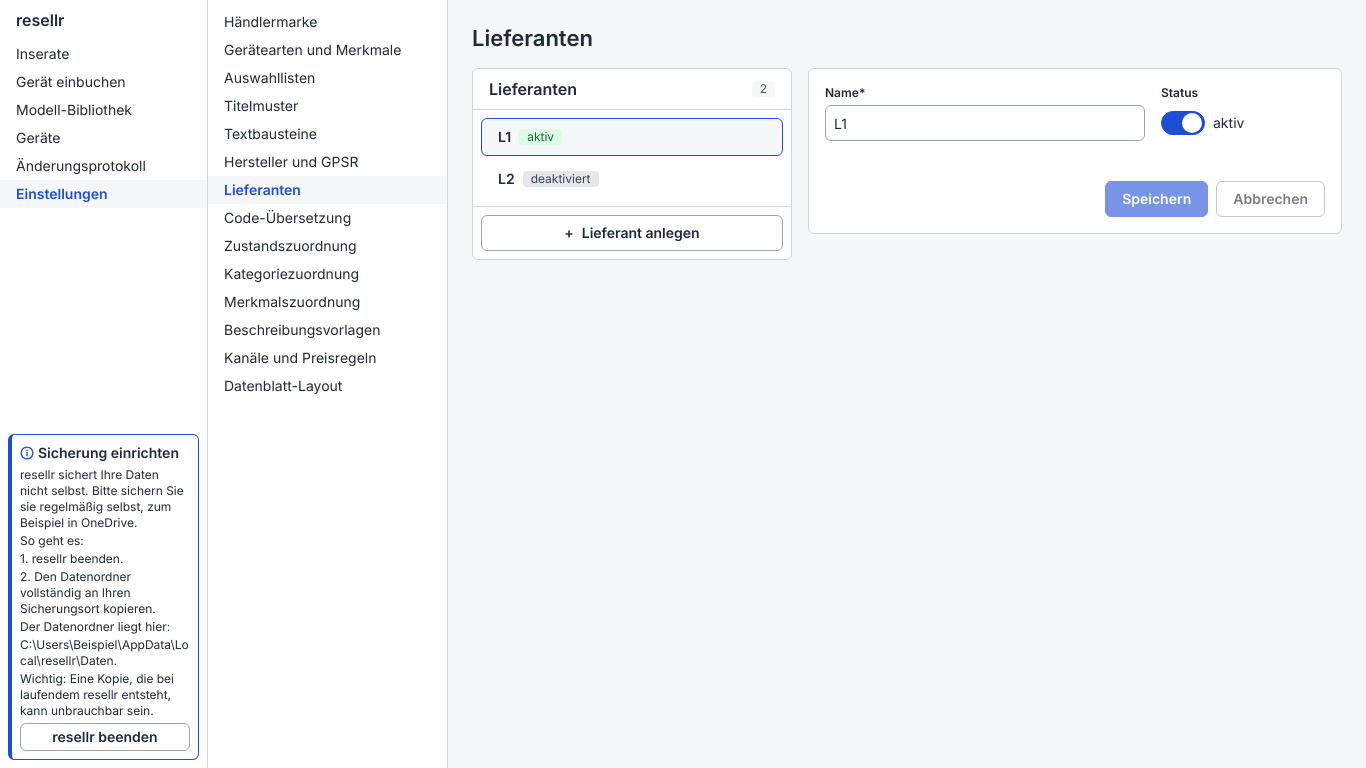
Test: UI-032 suppliers (CU-099) › UI-032.disabled DER-36-07 "Speichern" is disabled without a change and enabled after one
Expected: the button "L1 aktiv" is shown, [481,118,783,156]
Expected: the field labelled "Name*" holds "L1", [825,105,1145,141]
Submit the form, box [808,68,1342,234]
Replace the text in the field labelled "Name*" with "L1 neu" at {"x": 985, "y": 123}, box [825,105,1145,141]
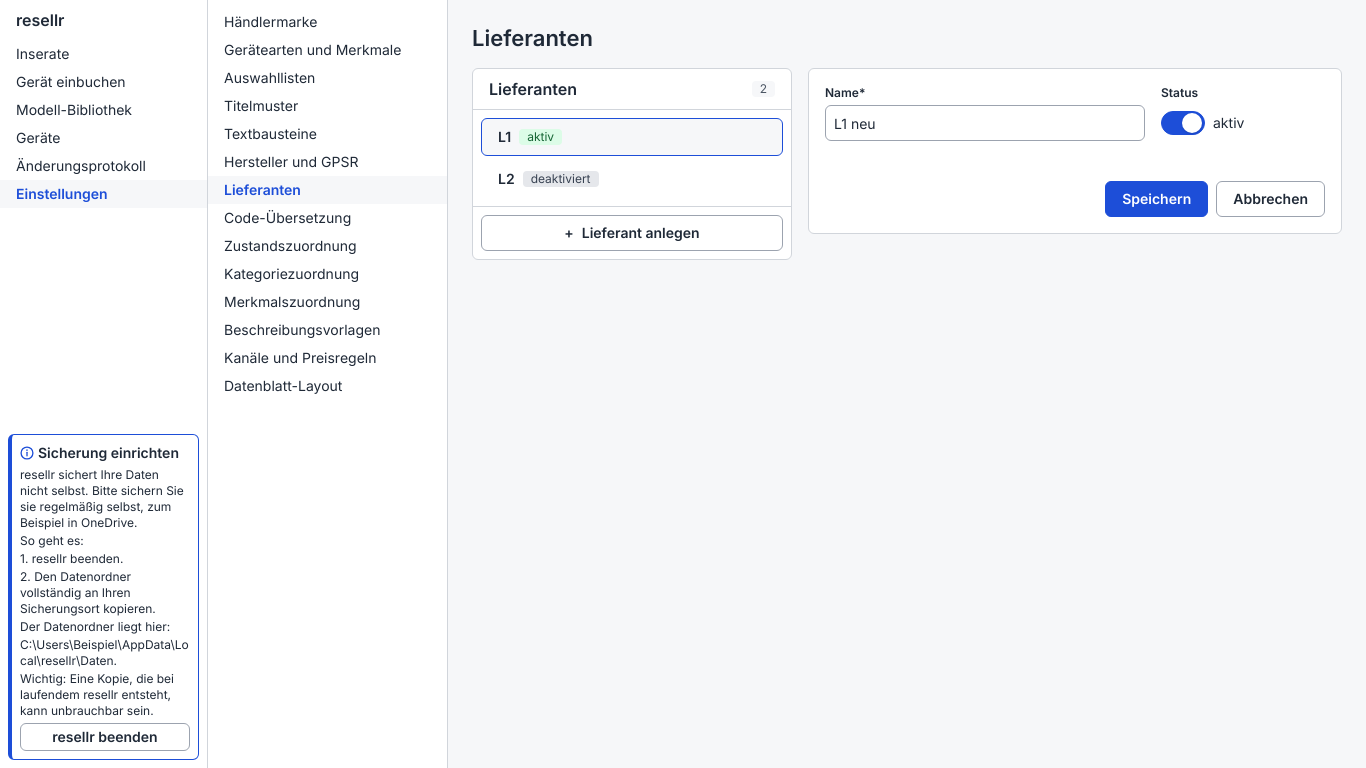
Now the button "Speichern" is enabled, box [1105,181,1208,217]
Replace the text in the field labelled "Name*" with "L1" at {"x": 985, "y": 123}, box [825,105,1145,141]
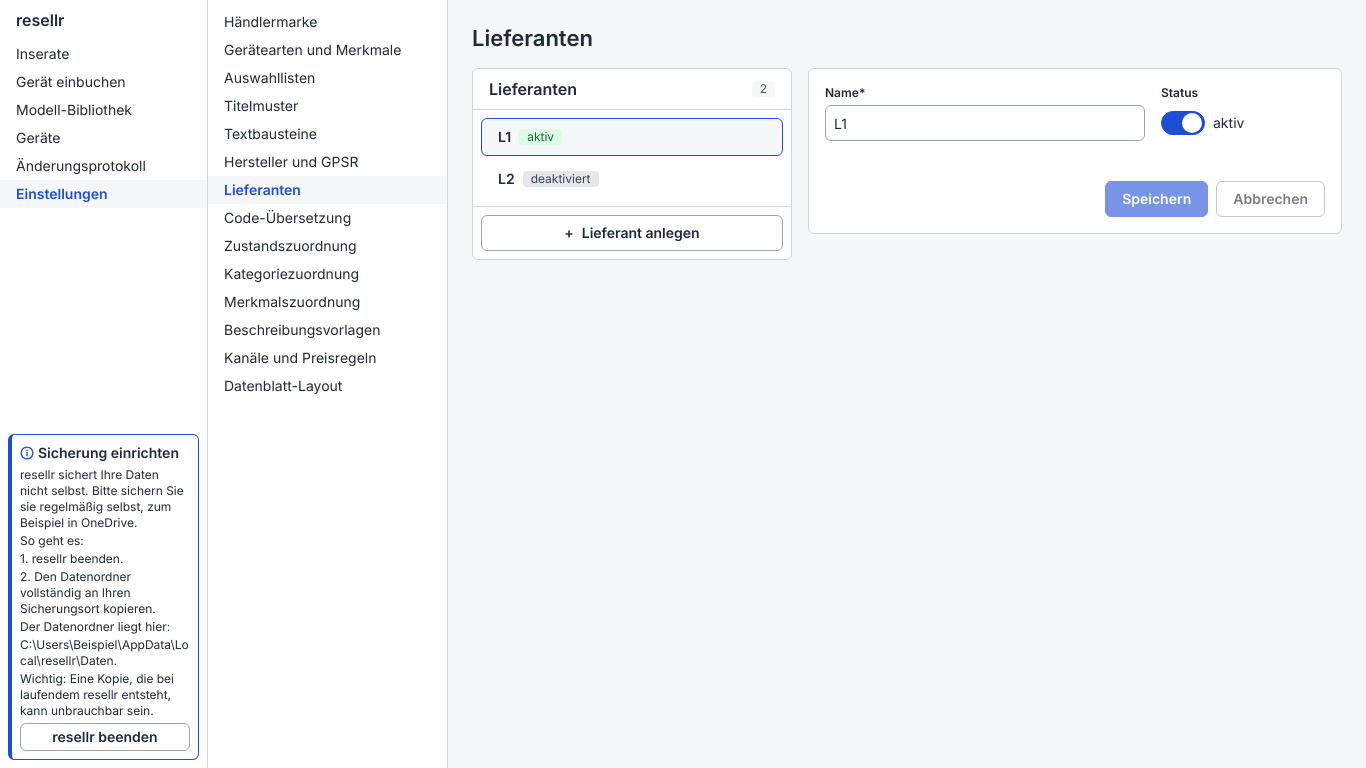
Now the button "Speichern" is disabled, box [1105,181,1208,217]
Click the switch named "Status".
click(1183, 123)  # box [1161,111,1205,135]
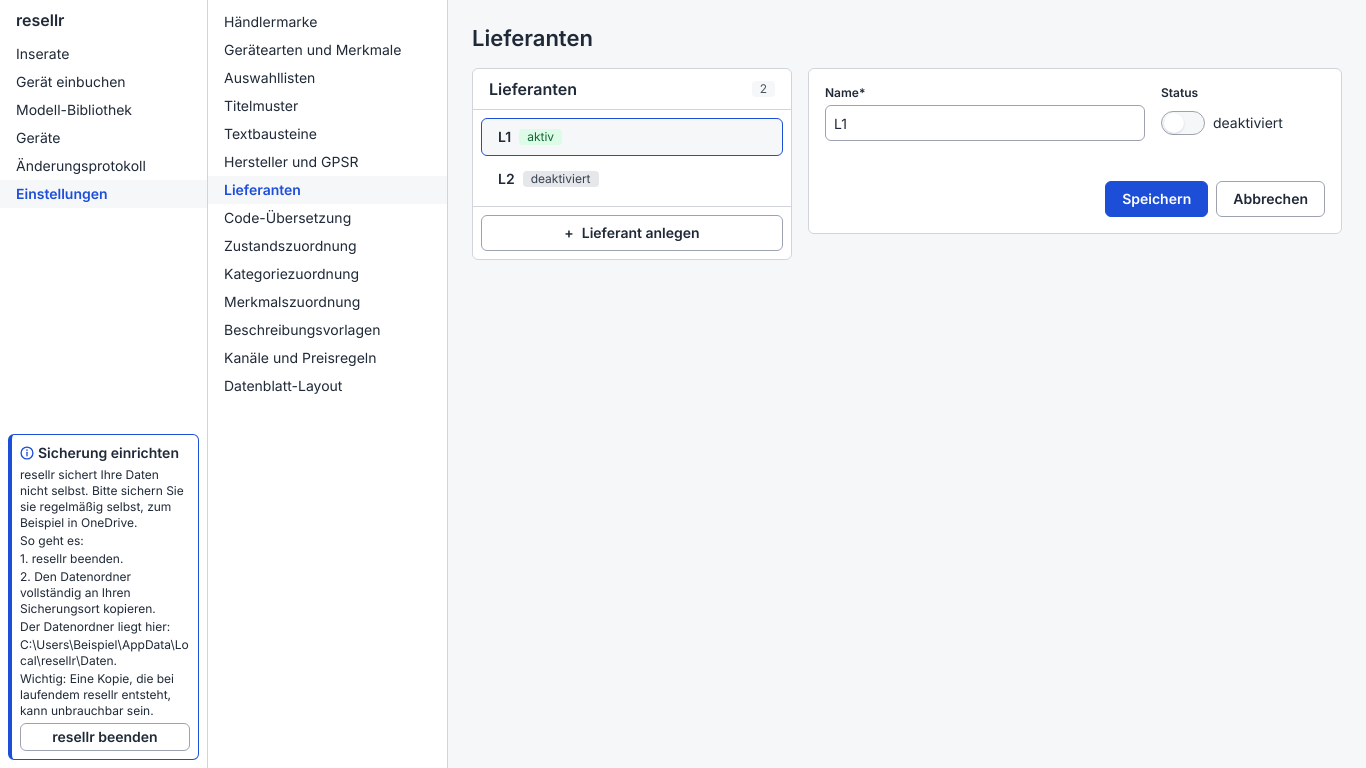
Now the button "Speichern" is enabled, box [1105,181,1208,217]
Click the switch named "Status".
click(1183, 123)  # box [1161,111,1205,135]
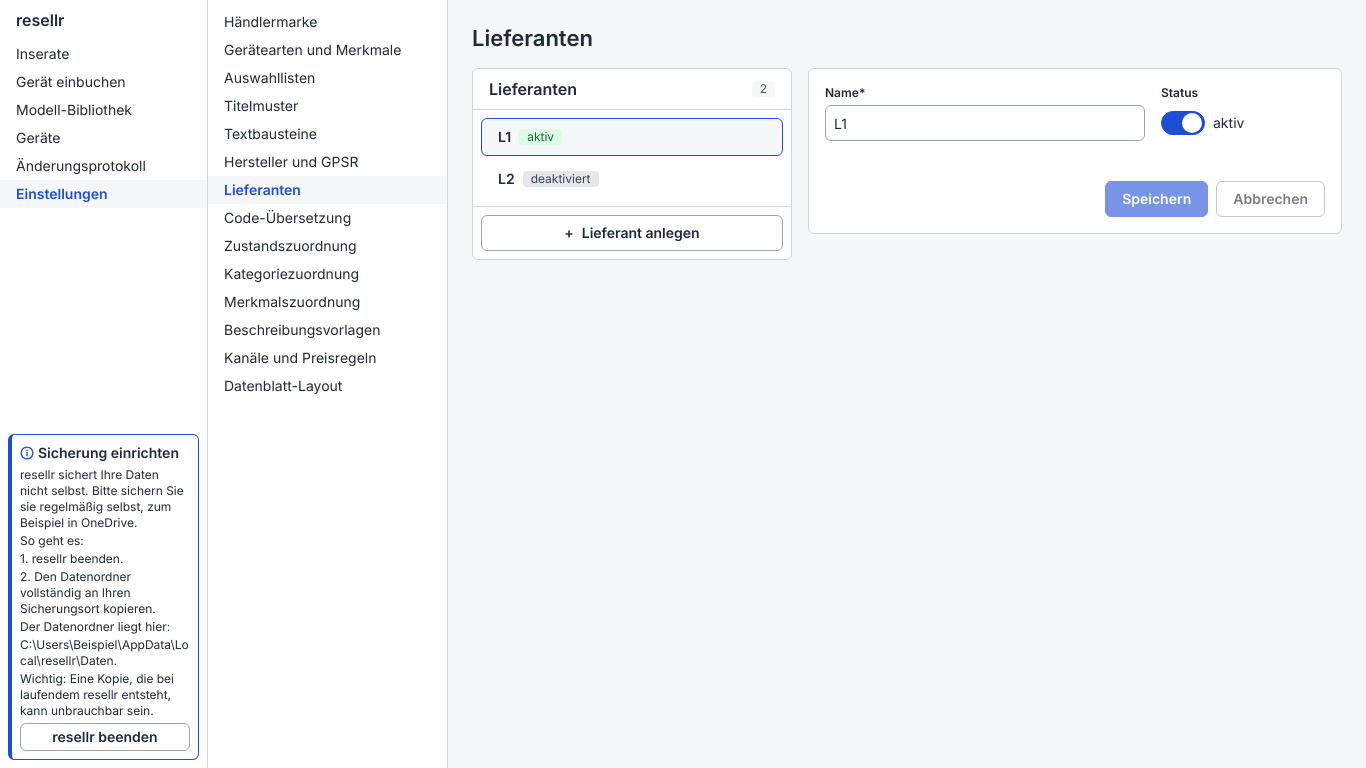
Expected: the 1st heading "Lieferanten" is shown, [472,25,593,51]
Now the button "Speichern" is disabled, box [1105,181,1208,217]
